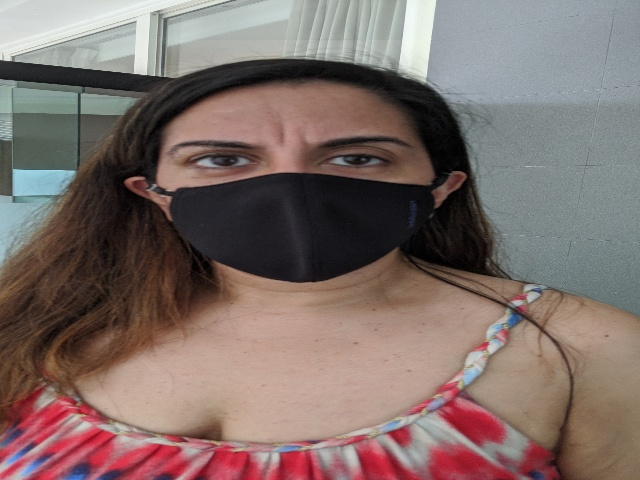mask: (105, 48, 477, 296)
